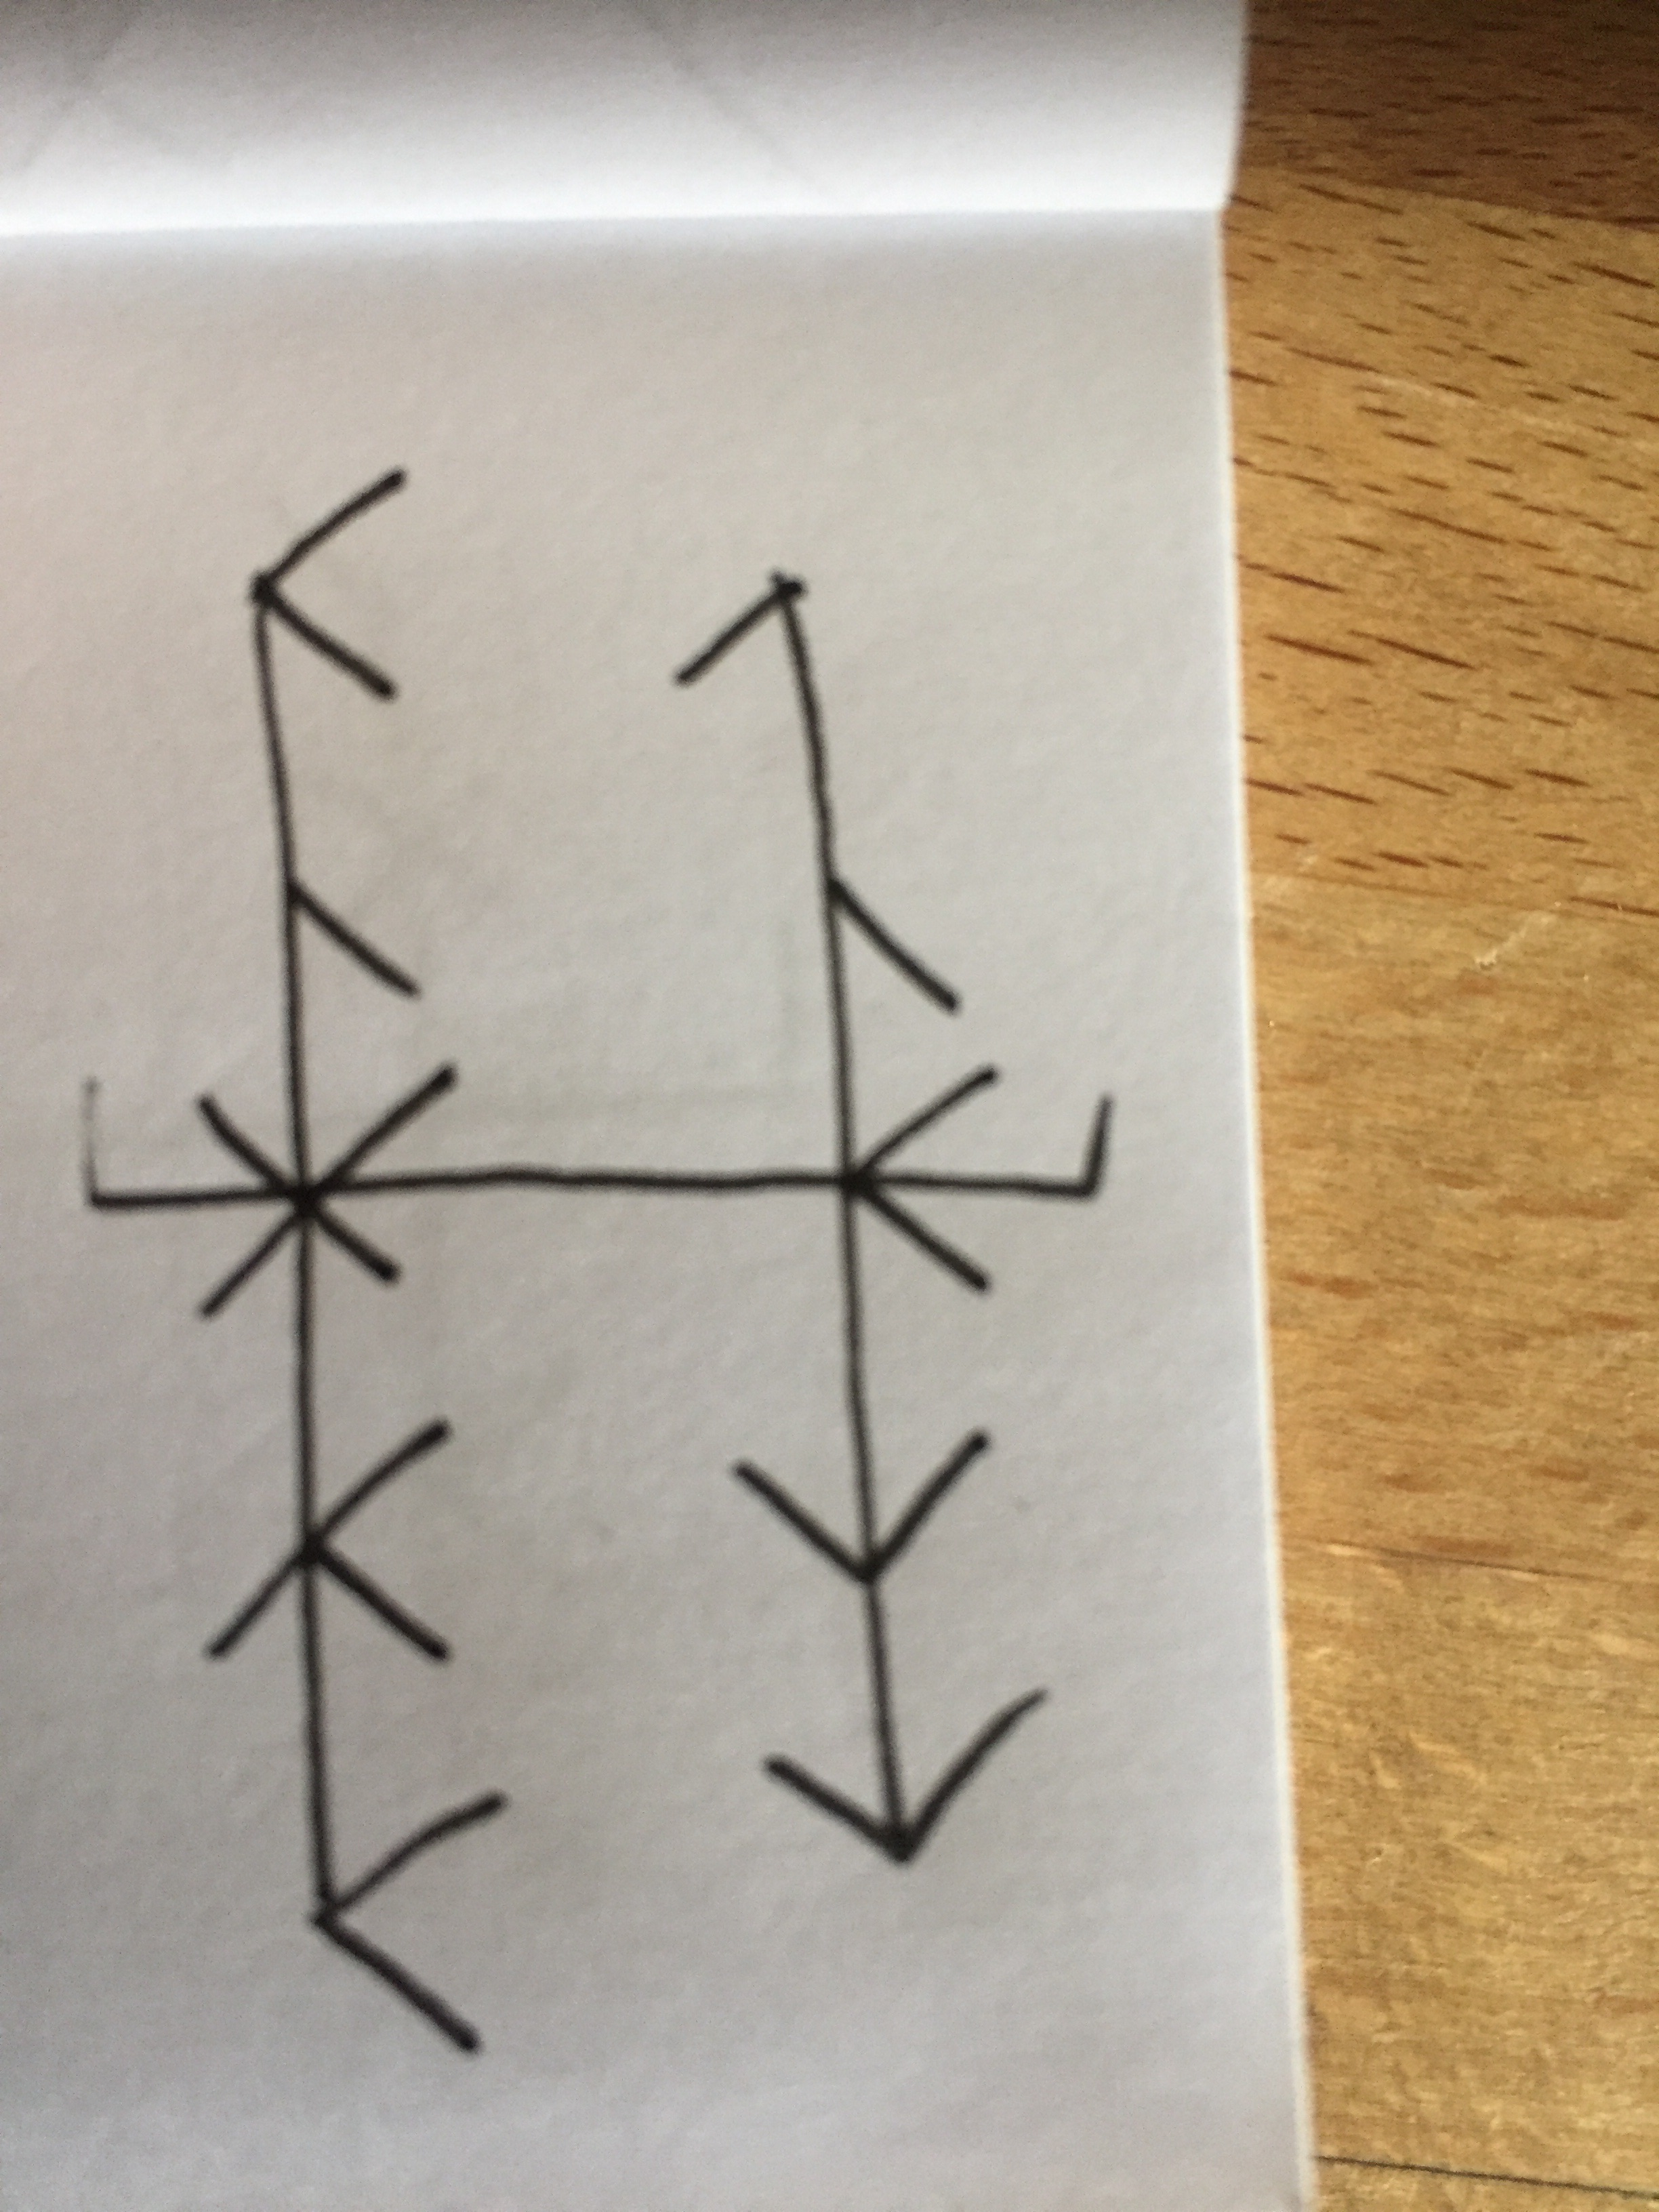Bar: (195, 469, 511, 2059), (673, 571, 1056, 1869)
Barcode: (77, 469, 1117, 2059)
End: (986, 1092, 1119, 1204)
Start: (75, 1076, 192, 1217)
